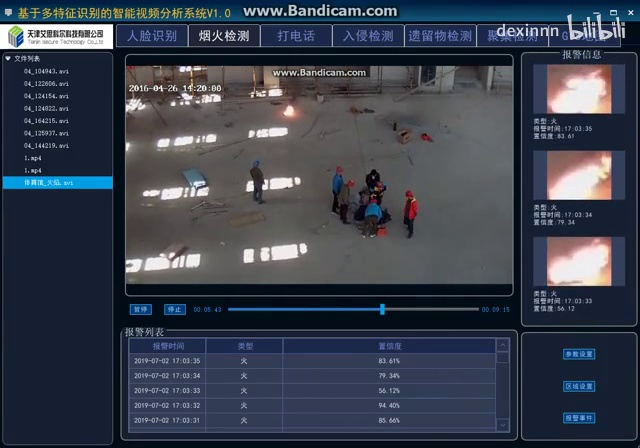fire: (280, 103, 297, 118)
